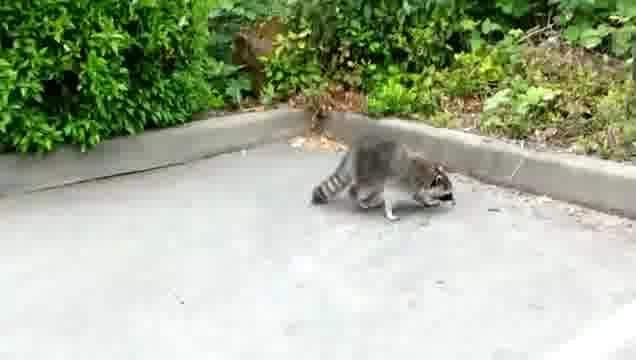raccoon: (312, 134, 459, 223)
